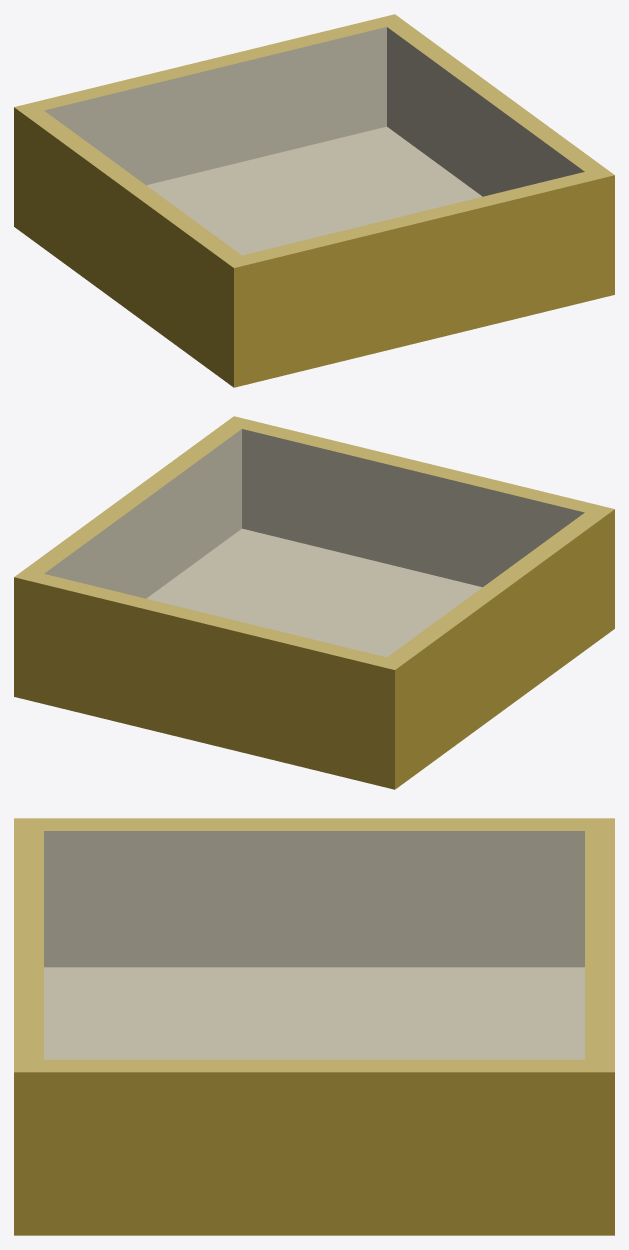
File: PackageBox.fbx
3 renders of one model, top to bottom at view 1: azimuth 30°, elevation 25°; view 2: azimuth 150°, elevation 25°; view 3: azimuth 270°, elevation 25°, orthographic. The views are drawn at different scales.
Visible parts, largest first — view 1: PackageBox; view 2: PackageBox; view 3: PackageBox.
Part boxes in pixels (bbox=[...]): PackageBox: bbox=[14, 14, 614, 387]; PackageBox: bbox=[14, 416, 614, 789]; PackageBox: bbox=[14, 818, 614, 1235].
Bounding box in the file's own units: 1 × 0.3 × 1.
